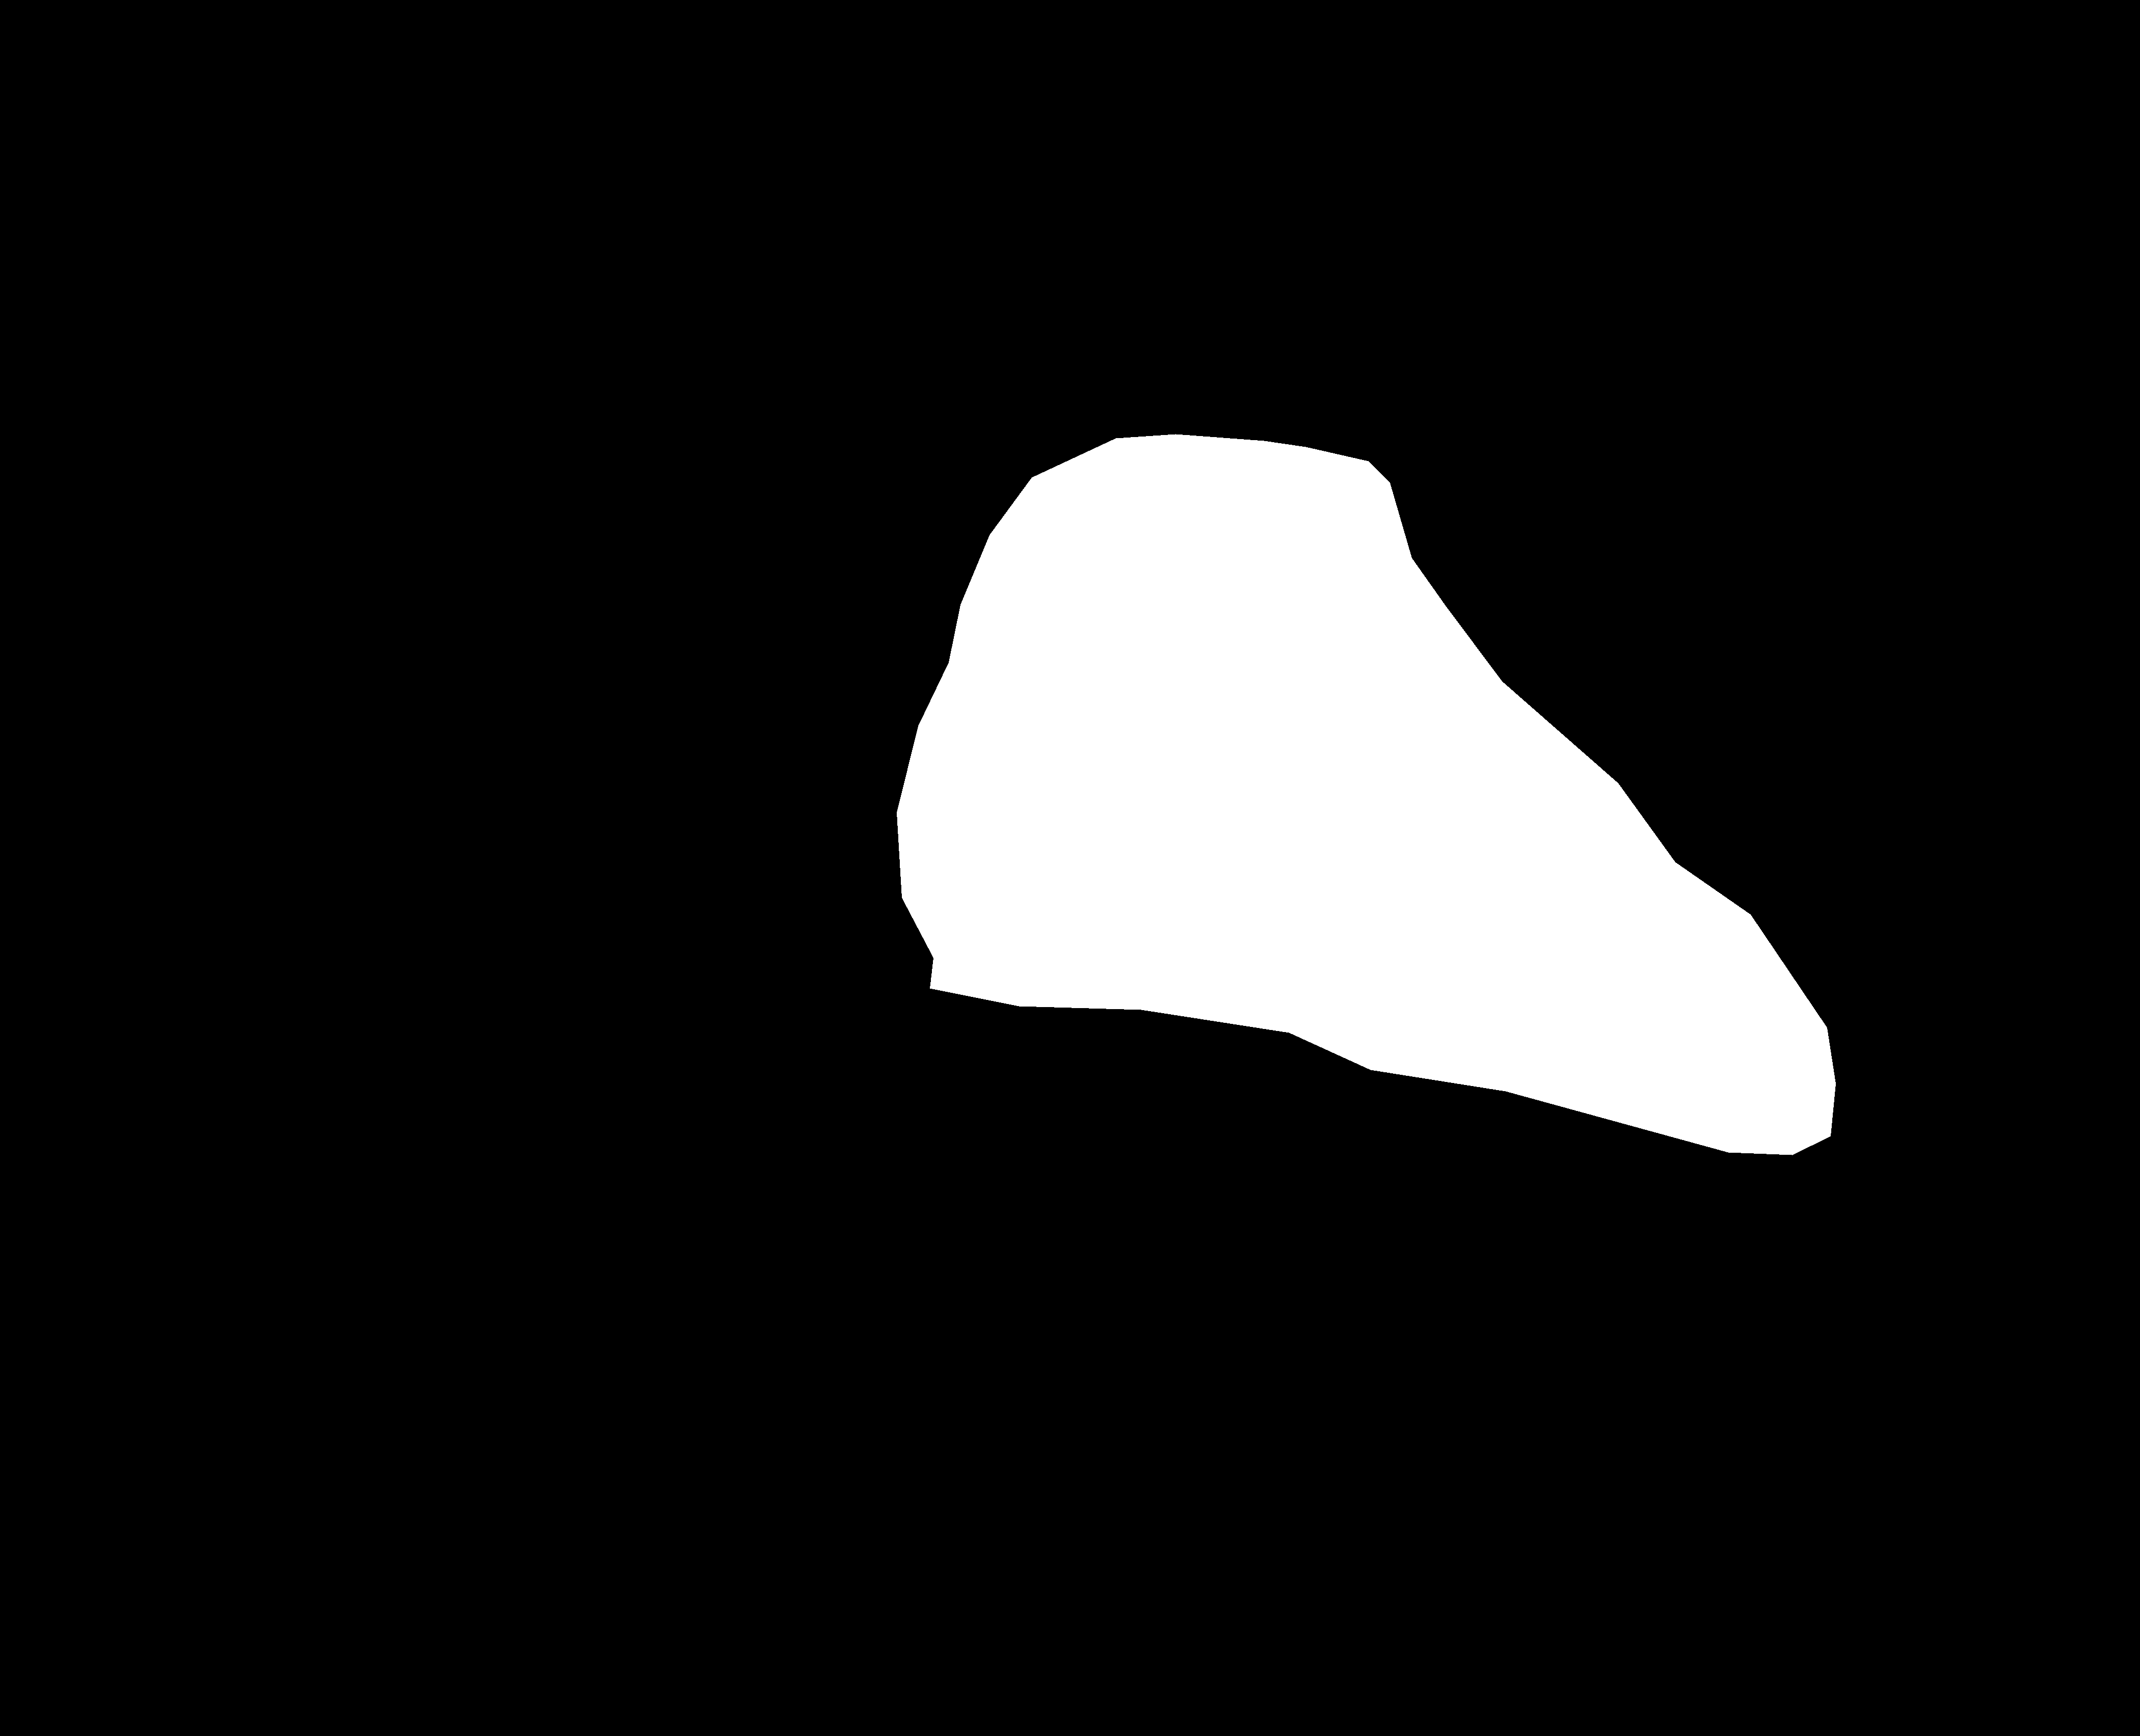heart: (896, 434, 1835, 1155)
left_lung: (330, 117, 1031, 1027)
right_lung: (1198, 138, 1857, 1035)
